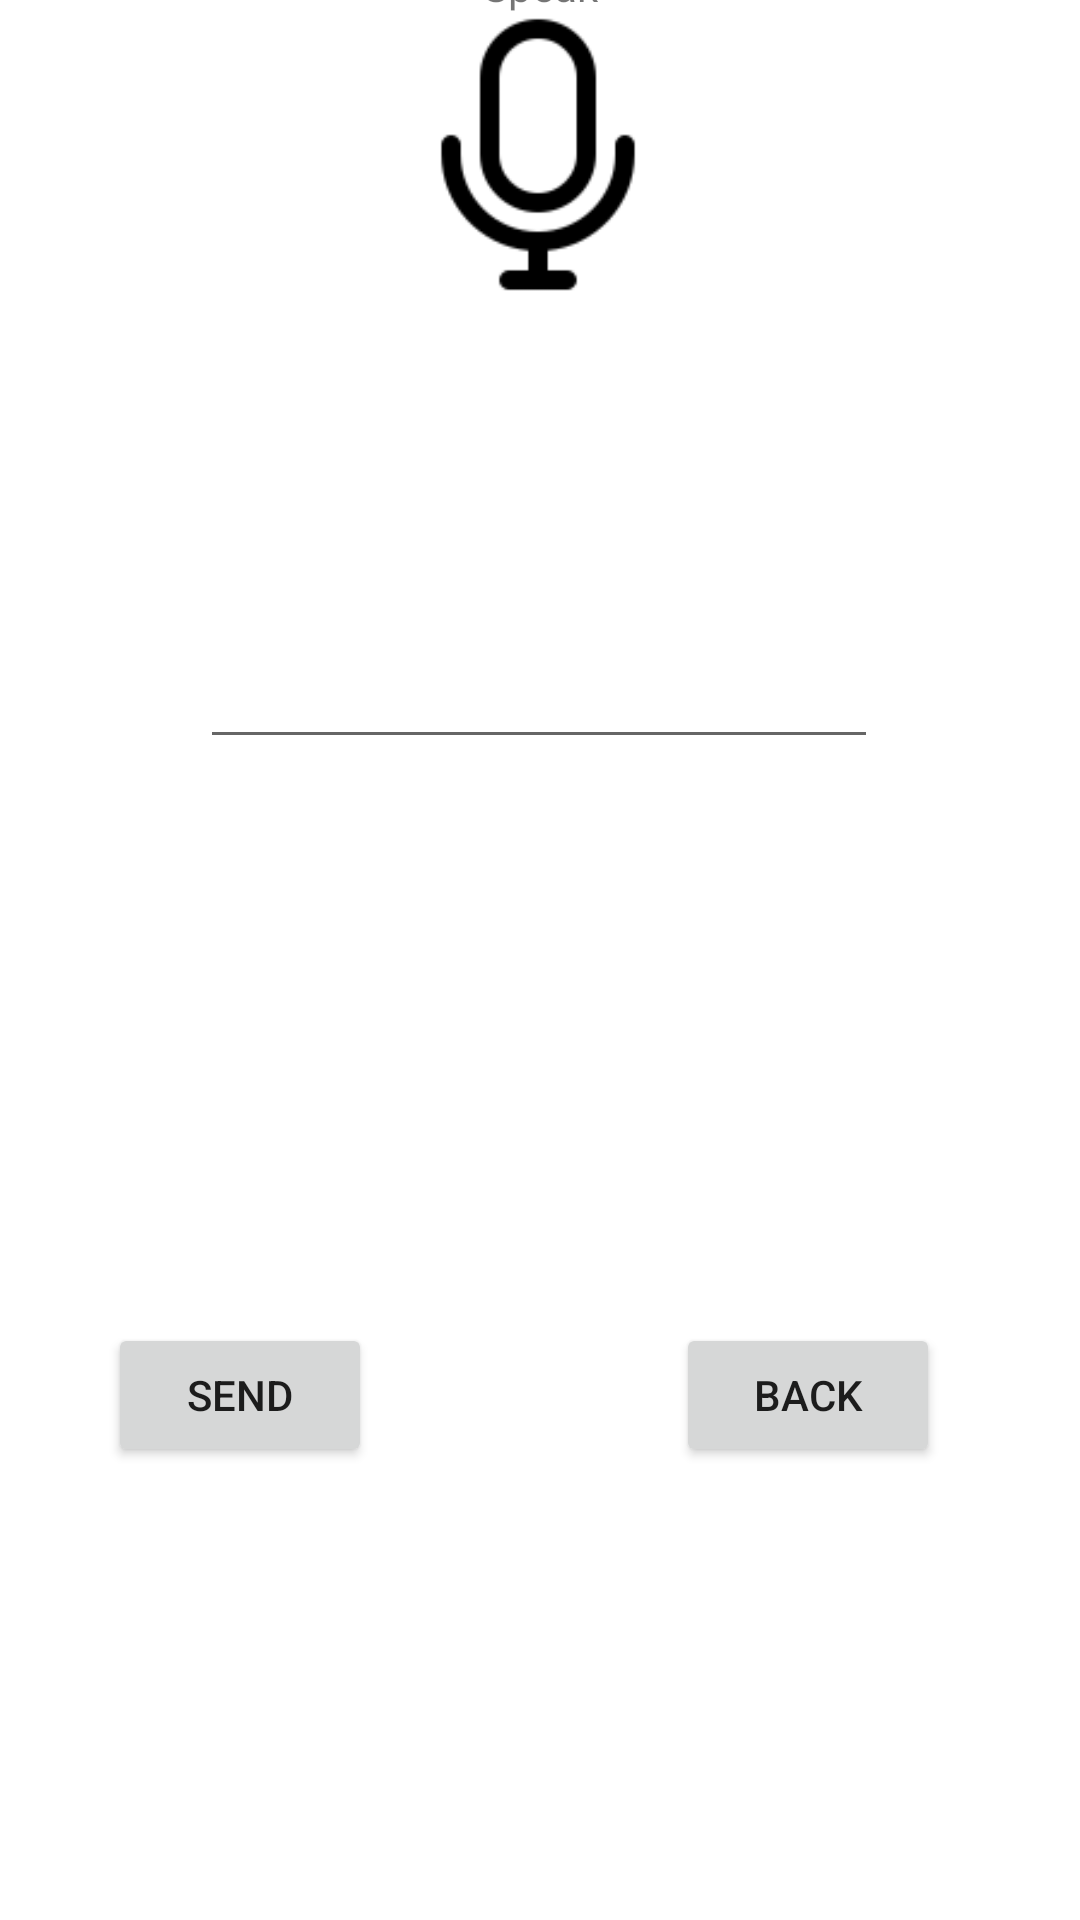

Locate icon controls on the screen. Image size 1080*1920, boxes as {"x1": x1, "y1": y1, "x2": x2, "y2": y2}.
microphone: {"x1": 440, "y1": 0, "x2": 636, "y2": 291}
